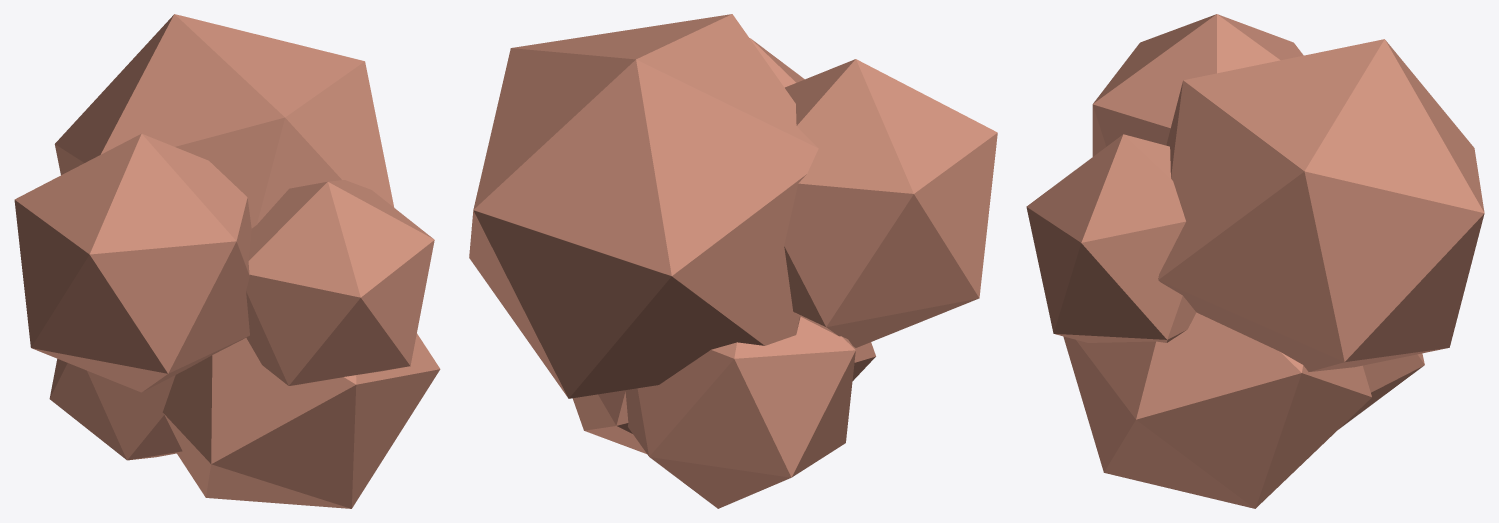
The model's file is popcorn.fbx.
The picture shows the model from 3 angles, left to right: view 1: azimuth 30°, elevation 25°; view 2: azimuth 150°, elevation 25°; view 3: azimuth 270°, elevation 25°; orthographic projection. The views are drawn at different scales.
Visible parts, largest first — view 1: popcorn; view 2: popcorn; view 3: popcorn.
Part boxes in pixels (box(x1,y1,x2,y2)): popcorn: box(14, 14, 440, 508); popcorn: box(469, 14, 997, 508); popcorn: box(1026, 14, 1484, 508).
Size of the model in its own units: 8.29 by 8.57 by 8.14.
